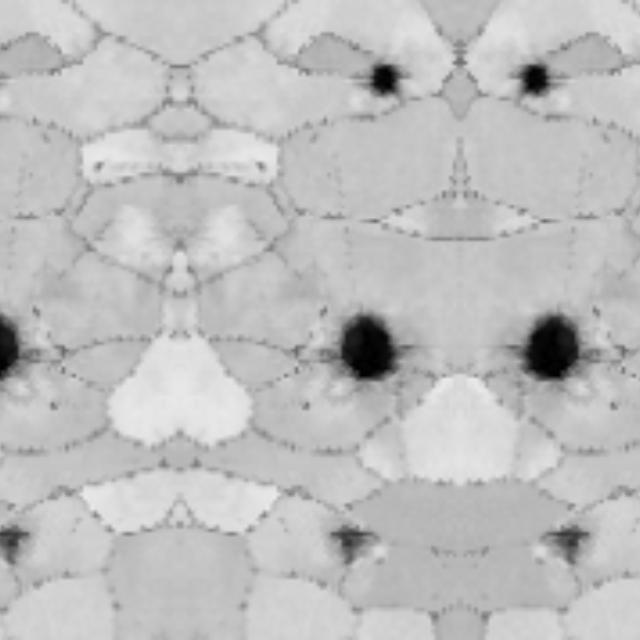good_void: (313, 308, 406, 392), (513, 308, 606, 392), (317, 510, 391, 573), (528, 510, 602, 573), (347, 54, 414, 112), (505, 54, 572, 112), (0, 311, 45, 392), (0, 510, 41, 573), (290, 392, 328, 424), (30, 392, 68, 424), (591, 392, 629, 424), (249, 155, 271, 181), (87, 155, 109, 181), (311, 300, 335, 322), (23, 300, 47, 322), (584, 300, 608, 322)
